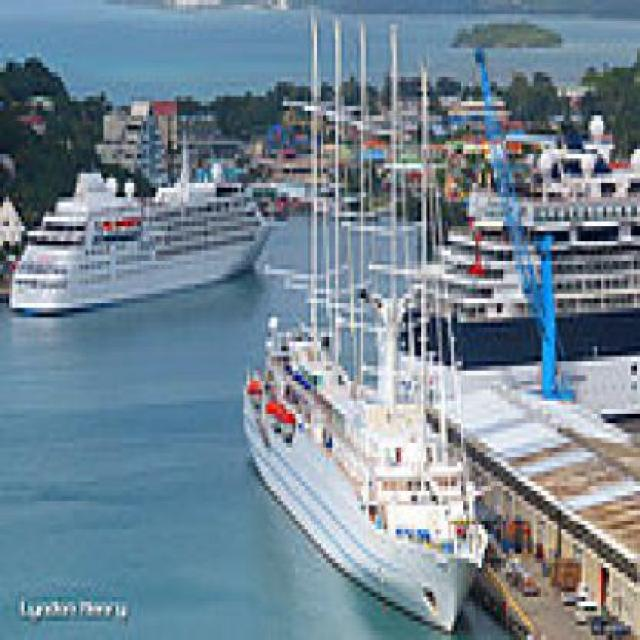cruise: (1, 136, 281, 323)
